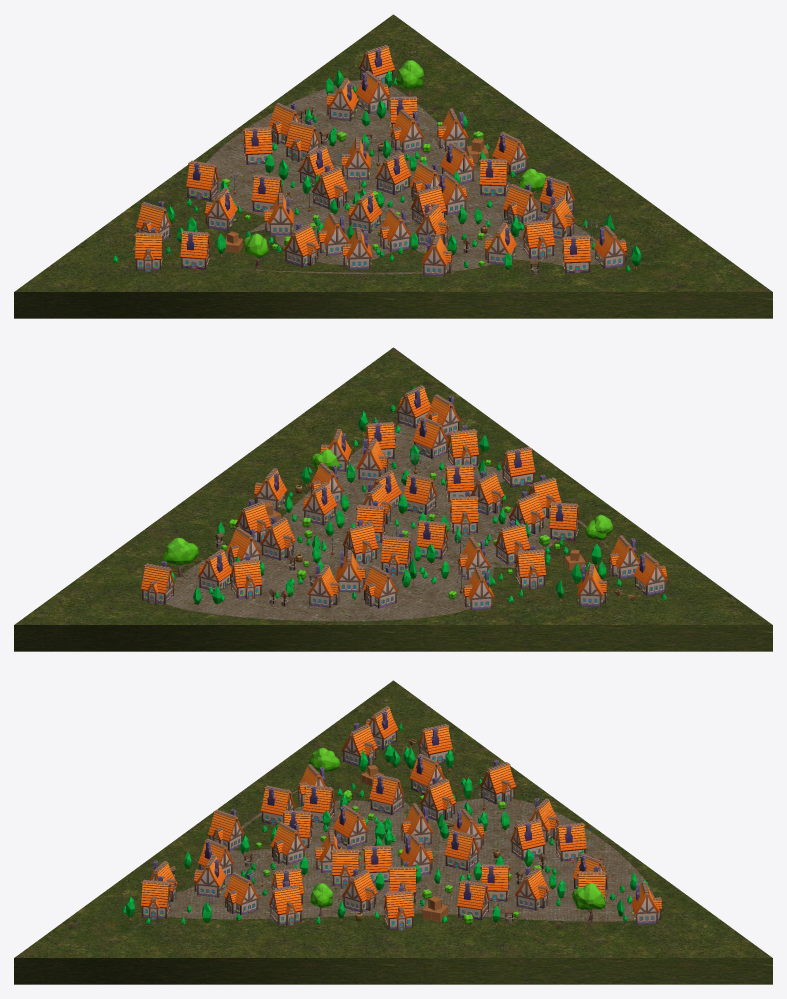
File: testCity-optimized.glb
3 views of the same model, one above another, from view 1: azimuth 30°, elevation 25°; view 2: azimuth 150°, elevation 25°; view 3: azimuth 270°, elevation 25° (orthographic).
Parts seen in each view (by area): view 1: finalGroundMesh, enclosedMesh, cottage.glb10, cottage.glb11, cottage.glb360, cottage.glb227, cottage.glb216, cottage.glb276, cottage.glb304, cottage.glb23, cottage.glb7, cottage.glb471 (+31 smaller); view 2: finalGroundMesh, enclosedMesh, cottage.glb370, cottage.glb259, cottage.glb43, cottage.glb546, cottage.glb40, cottage.glb7, cottage.glb136, cottage.glb11, cottage.glb569, cottage.glb382 (+32 smaller); view 3: finalGroundMesh, enclosedMesh, cottage.glb246, cottage.glb360, cottage.glb83, cottage.glb196, cottage.glb89, cottage.glb136, cottage.glb349, cottage.glb1, cottage.glb60, cottage.glb15 (+30 smaller).
Part boxes in pixels (left/top/right/bottom): finalGroundMesh: left=14, top=14, right=772, bottom=318; enclosedMesh: left=161, top=80, right=599, bottom=274; cottage.glb10: left=283, top=222, right=319, bottom=267; cottage.glb11: left=522, top=215, right=554, bottom=259; cottage.glb360: left=186, top=160, right=219, bottom=200; cottage.glb227: left=312, top=165, right=348, bottom=209; cottage.glb216: left=502, top=184, right=538, bottom=225; cottage.glb276: left=375, top=152, right=411, bottom=194; cottage.glb304: left=285, top=119, right=320, bottom=161; cottage.glb23: left=180, top=230, right=210, bottom=269; cottage.glb7: left=390, top=109, right=424, bottom=152; cottage.glb471: left=134, top=228, right=163, bottom=271; finalGroundMesh: left=14, top=347, right=772, bottom=651; enclosedMesh: left=166, top=423, right=617, bottom=621; cottage.glb370: left=141, top=561, right=174, bottom=604; cottage.glb259: left=230, top=555, right=262, bottom=599; cottage.glb43: left=515, top=545, right=546, bottom=589; cottage.glb546: left=501, top=446, right=535, bottom=487; cottage.glb40: left=362, top=565, right=398, bottom=608; cottage.glb7: left=260, top=516, right=295, bottom=560; cottage.glb136: left=343, top=520, right=378, bottom=563; cottage.glb11: left=412, top=416, right=448, bottom=458; cottage.glb569: left=404, top=474, right=437, bottom=514; cottage.glb382: left=447, top=425, right=478, bottom=465; finalGroundMesh: left=14, top=680, right=772, bottom=984; enclosedMesh: left=167, top=762, right=654, bottom=921; cottage.glb246: left=269, top=881, right=302, bottom=925; cottage.glb360: left=480, top=760, right=516, bottom=804; cottage.glb83: left=369, top=773, right=404, bottom=815; cottage.glb196: left=223, top=872, right=259, bottom=915; cottage.glb89: left=383, top=886, right=414, bottom=930; cottage.glb136: left=444, top=829, right=479, bottom=870; cottage.glb349: left=141, top=876, right=170, bottom=919; cottage.glb1: left=270, top=822, right=306, bottom=865; cottage.glb60: left=342, top=868, right=377, bottom=912; cottage.glb15: left=420, top=777, right=456, bottom=821.
Bounding box in the file's own units: 4.5 × 0.4913 × 5.2.
13 materials, 13 textured.
